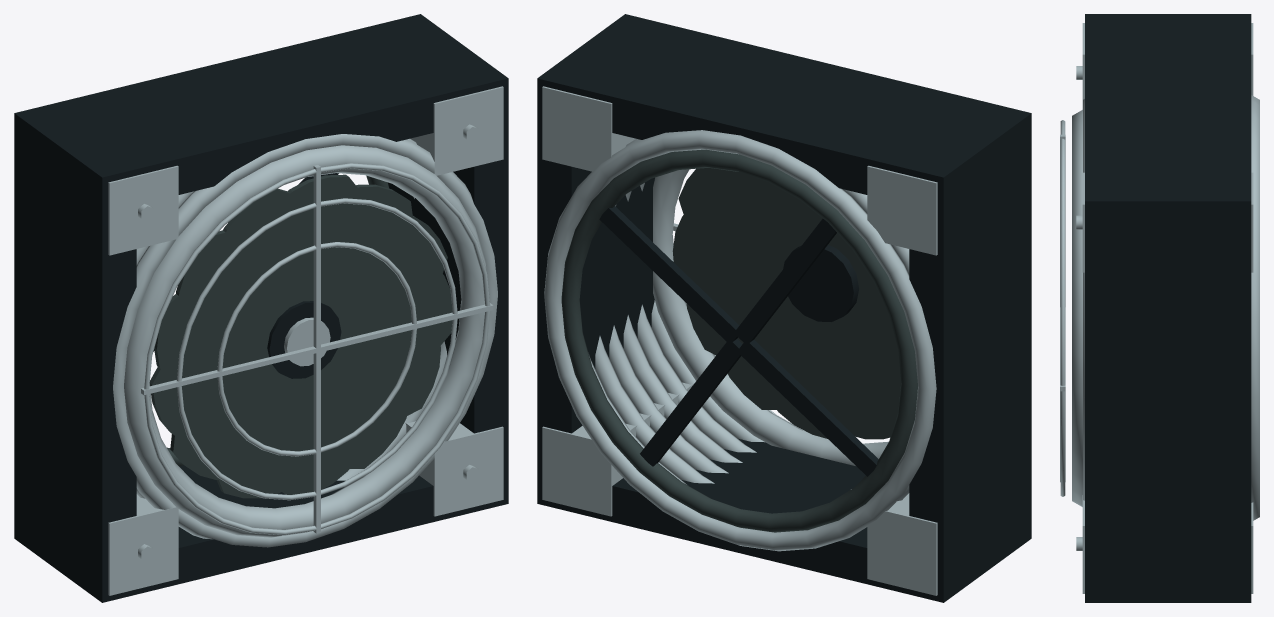
File: fan-server-240.glb
3 views of the same model, side by side, from view 1: azimuth 30°, elevation 25°; view 2: azimuth 150°, elevation 25°; view 3: azimuth 270°, elevation 25° (orthographic). The views are drawn at different scales.
Visible parts, largest first — view 1: Rubber and ABS, Brushed aluminium, Anodized graphite, fan-rotor; view 2: Rubber and ABS (×2), Brushed aluminium, Anodized graphite, fan-server-240, fan-rotor; view 3: Rubber and ABS, Brushed aluminium.
Boxes of the visible parts, bbox=[...] form: Rubber and ABS: bbox=[14, 14, 508, 602]; Brushed aluminium: bbox=[108, 86, 503, 595]; Anodized graphite: bbox=[149, 174, 452, 498]; fan-rotor: bbox=[267, 301, 341, 378]; Rubber and ABS (×2): bbox=[537, 14, 1031, 602]; Brushed aluminium: bbox=[542, 86, 937, 595]; Anodized graphite: bbox=[672, 168, 901, 439]; fan-server-240: bbox=[561, 149, 917, 532]; fan-rotor: bbox=[783, 245, 858, 321]; Rubber and ABS: bbox=[1085, 14, 1251, 602]; Brushed aluminium: bbox=[1060, 23, 1259, 593].
Bounding box in the file's own units: 2 × 2 × 0.9015.
